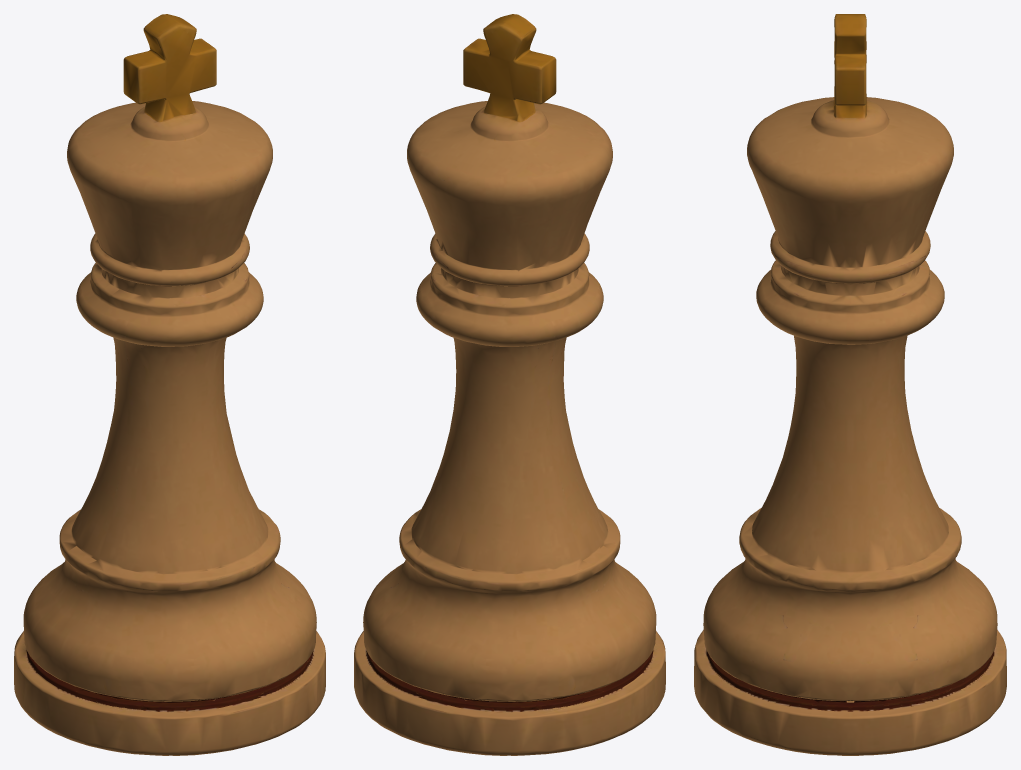
The model's file is king_light.glb.
3 renders of one model, left to right at view 1: azimuth 30°, elevation 25°; view 2: azimuth 150°, elevation 25°; view 3: azimuth 270°, elevation 25°, orthographic.
Visible parts, largest first — view 1: geometry_0; view 2: geometry_0; view 3: geometry_0.
Boxes of the visible parts, x1,y1,x2,y2 form: geometry_0: (14, 14, 325, 755); geometry_0: (354, 14, 665, 755); geometry_0: (694, 14, 1006, 755).
Bounding box in the file's own units: 0.6281 × 1.5 × 0.6279.
1 material, 1 textured.
